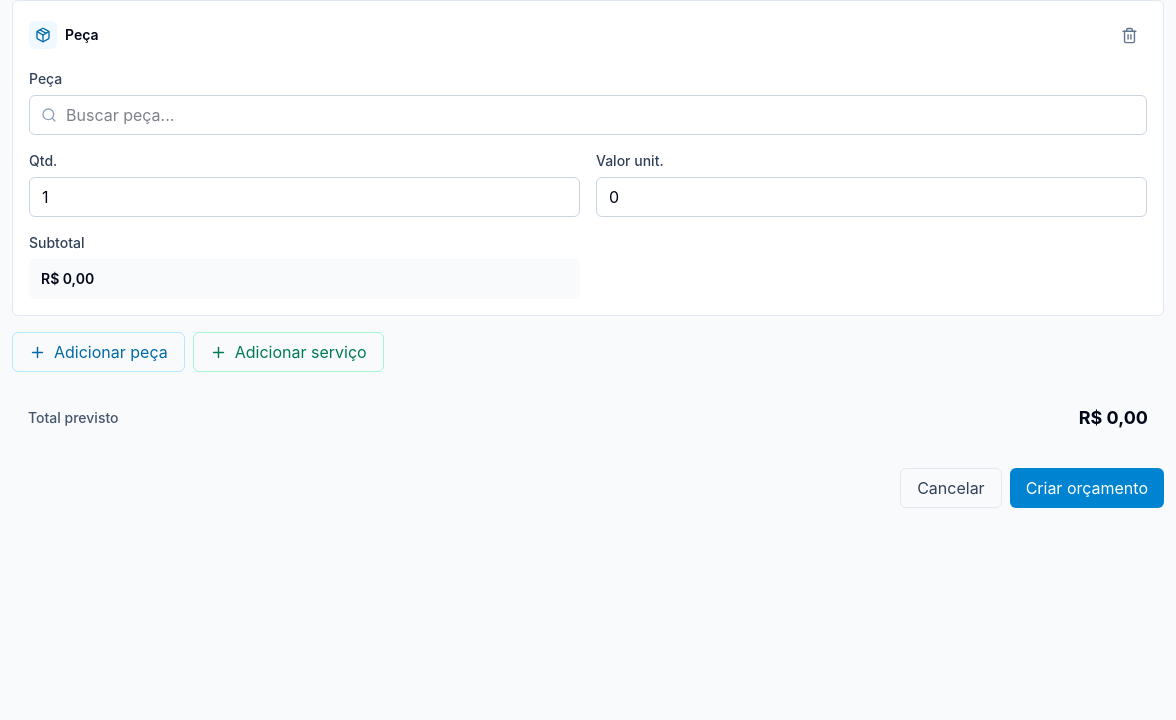
Test: BudgetForm mixed budget experience › adds a new PART line explicitly
Click the button "Adicionar peça": (98, 352) [12, 332, 185, 372]
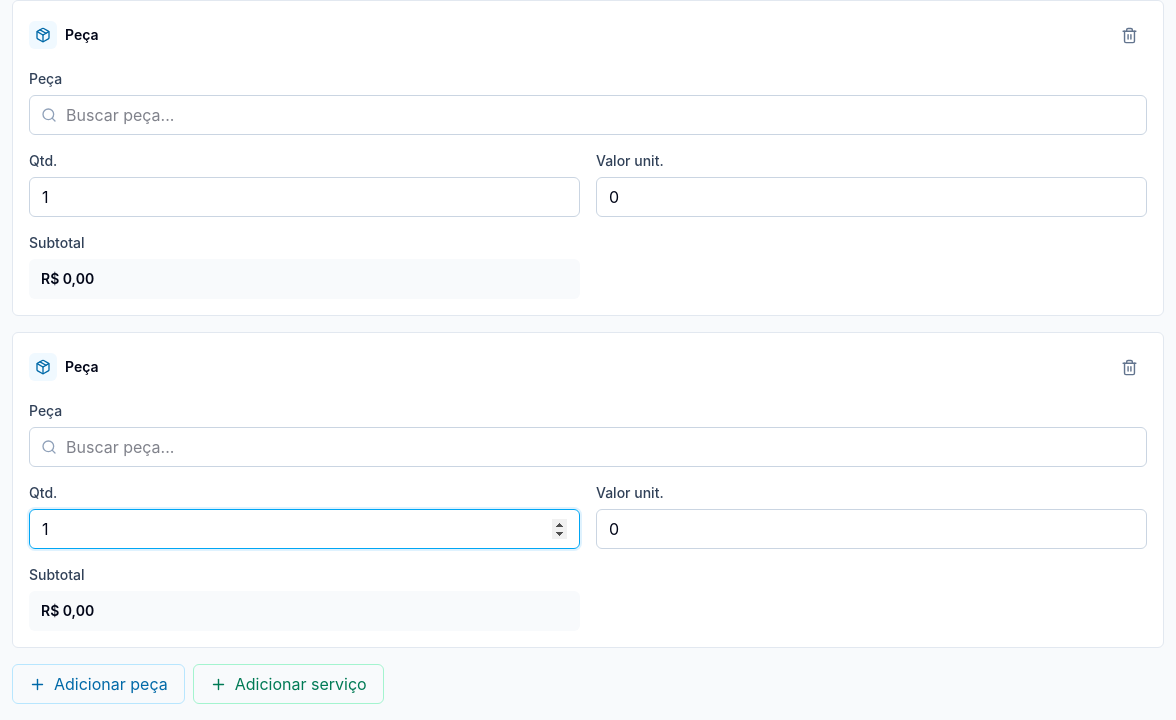
Expected: the number of buttons named "remover peça" is 2, [1111, 17, 1147, 53]; [1111, 349, 1147, 385]
